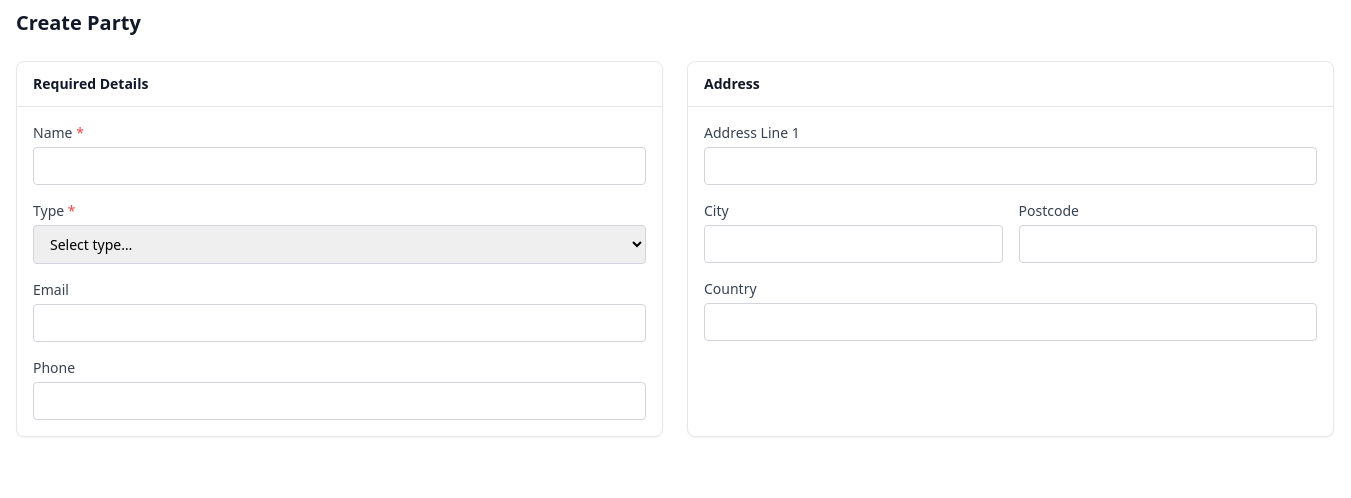
R05 � Submission › T-PAR-CREATE-R05c: createParty failure shows error alert and does not navigate
Type "Acme Corp" into the field named "Party name".
click(340, 166); type("Acme Corp")  # box [33,147,646,185]
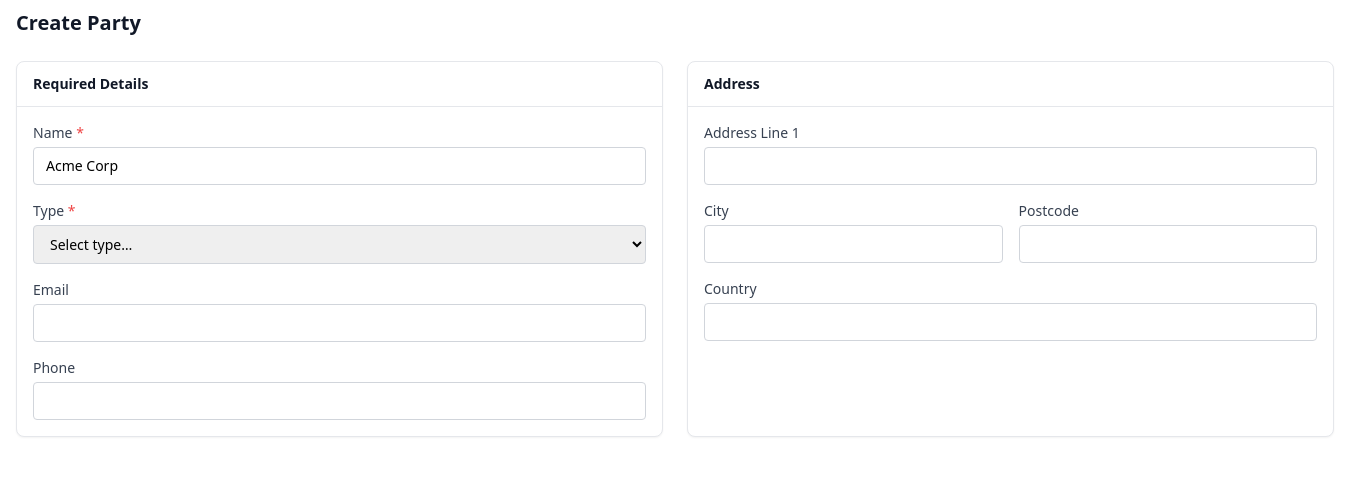
Select "Insured" in the dropdown named "Party type" at (340, 244), box [33,225,646,264]
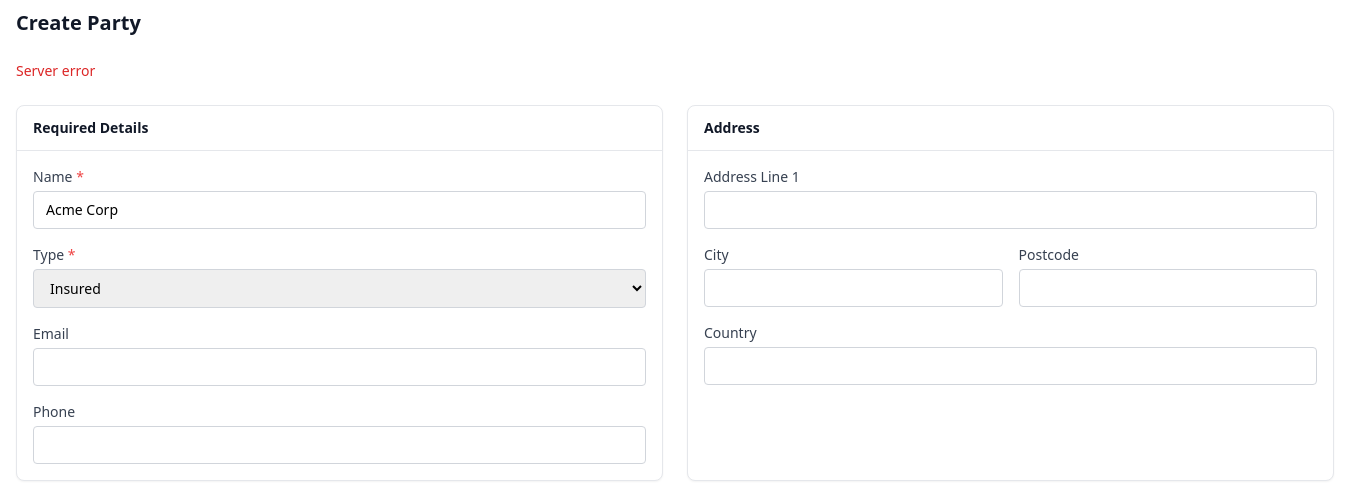
Result: the message reads "Server error" at [16,61,95,80]
